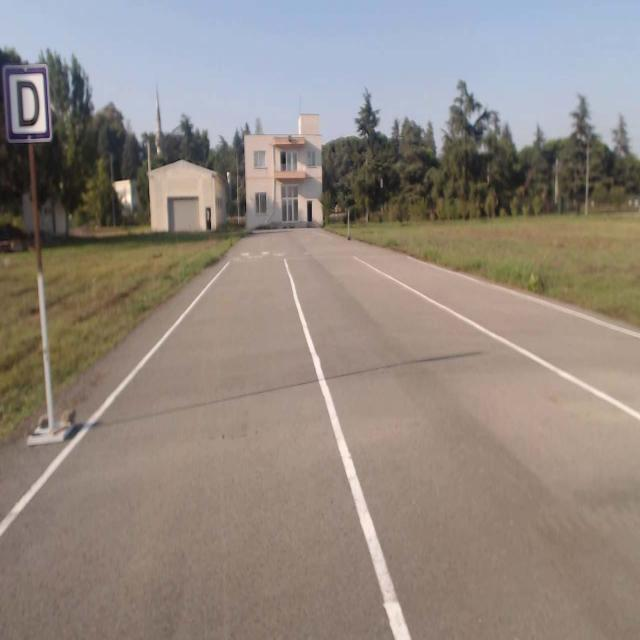durak: (5, 66, 50, 138)
